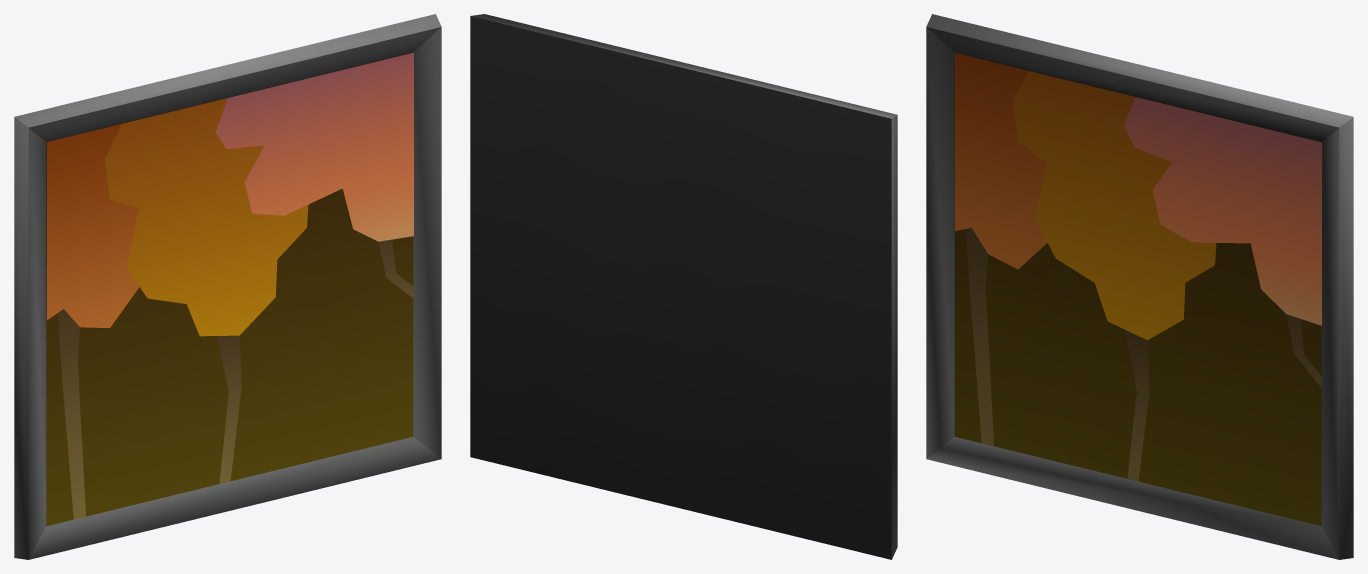
Rendered from TSP_Wall_Frame_01A.fbx.
3 renders of one model, left to right at view 1: azimuth 30°, elevation 25°; view 2: azimuth 150°, elevation 25°; view 3: azimuth 330°, elevation 25°, orthographic.
Parts seen in each view (by area): view 1: TSP_Wall_Frame_01A; view 2: TSP_Wall_Frame_01A; view 3: TSP_Wall_Frame_01A.
Part boxes in pixels (x1,y1,x2,y2): TSP_Wall_Frame_01A: [14, 14, 441, 559]; TSP_Wall_Frame_01A: [470, 14, 897, 559]; TSP_Wall_Frame_01A: [926, 14, 1353, 559].
Bounding box in the file's own units: 1 × 1 × 0.0417.
